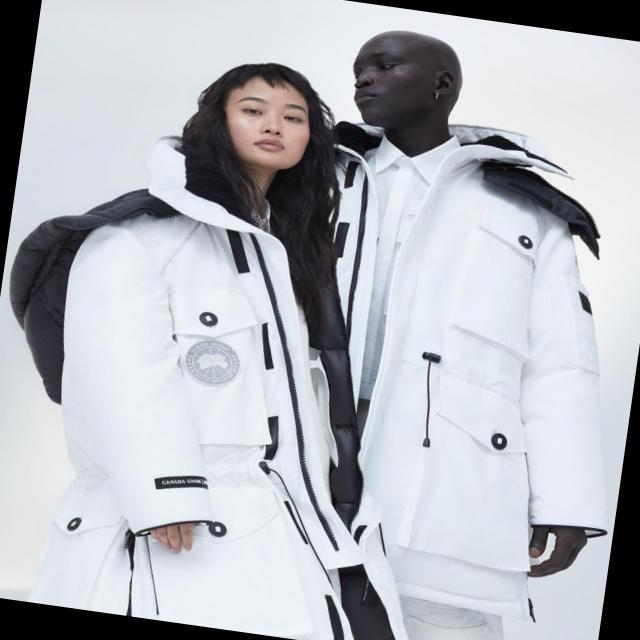Jacket: (0, 151, 462, 640), (277, 117, 640, 577)
